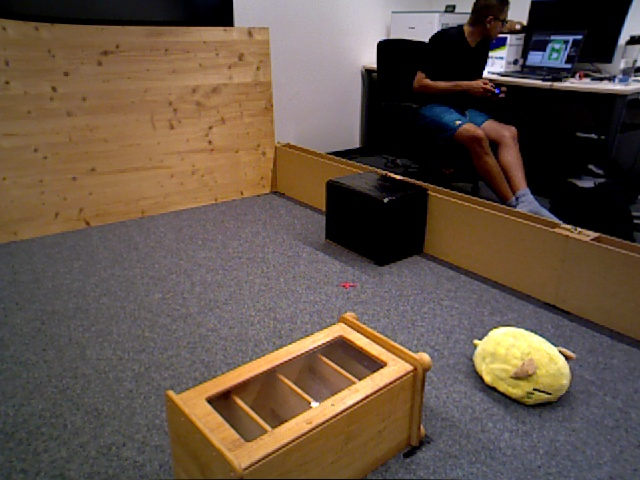grasp: (472, 325, 572, 407)
push: (326, 179, 429, 265)
